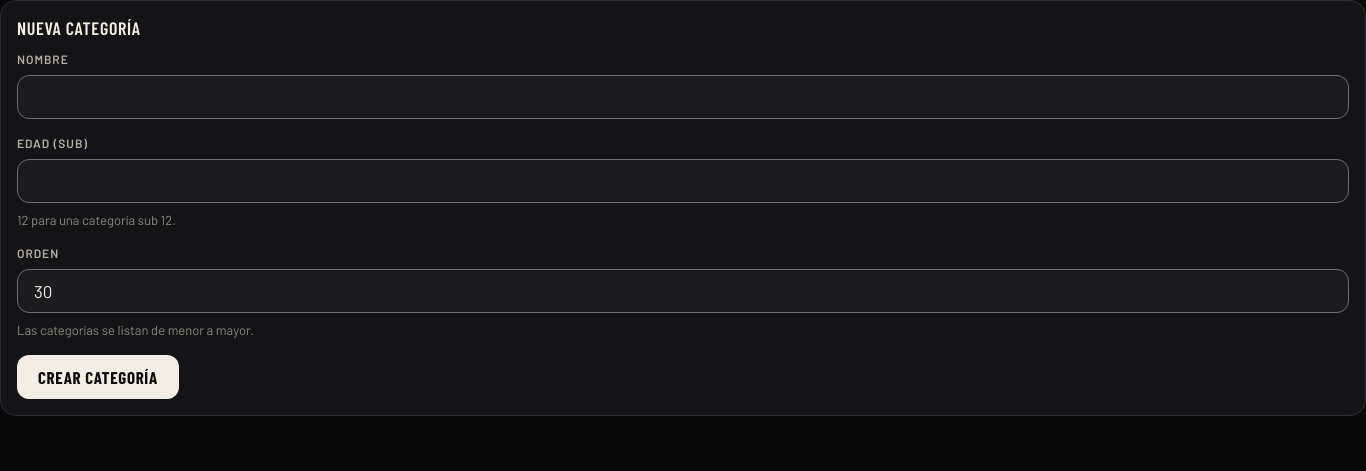
Test: CategoryEditor · una categoría nueva › el orden 0 escrito sí es 0
The width and height of the screenshot is (1366, 471).
Type "Mayores" into the field labelled "Nombre" at (683, 97), box [17, 75, 1349, 119]
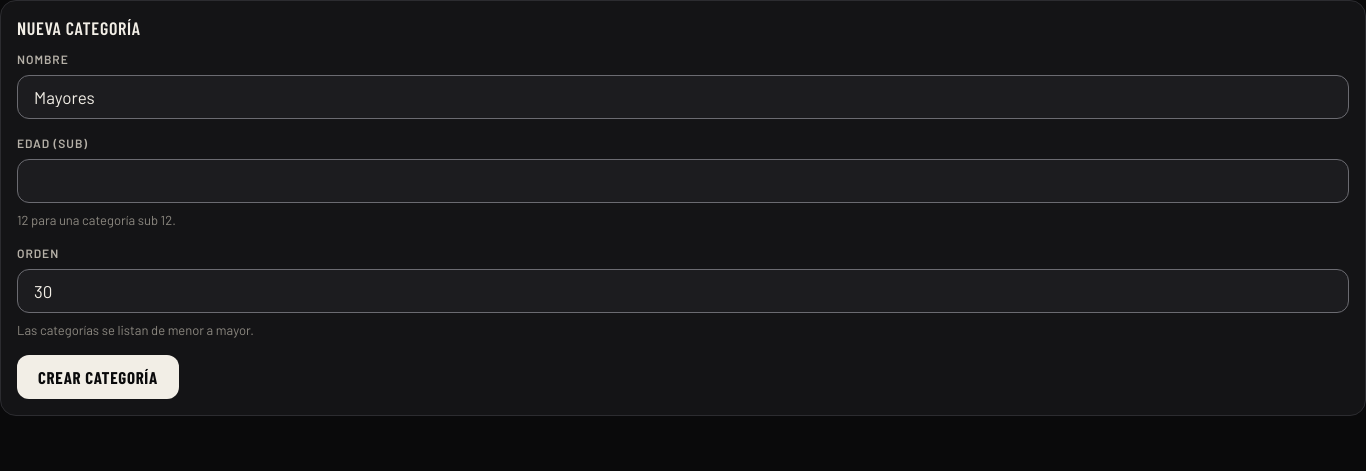
Type "16" into the number field labelled "Edad (sub)" at (683, 181), box [17, 159, 1349, 203]
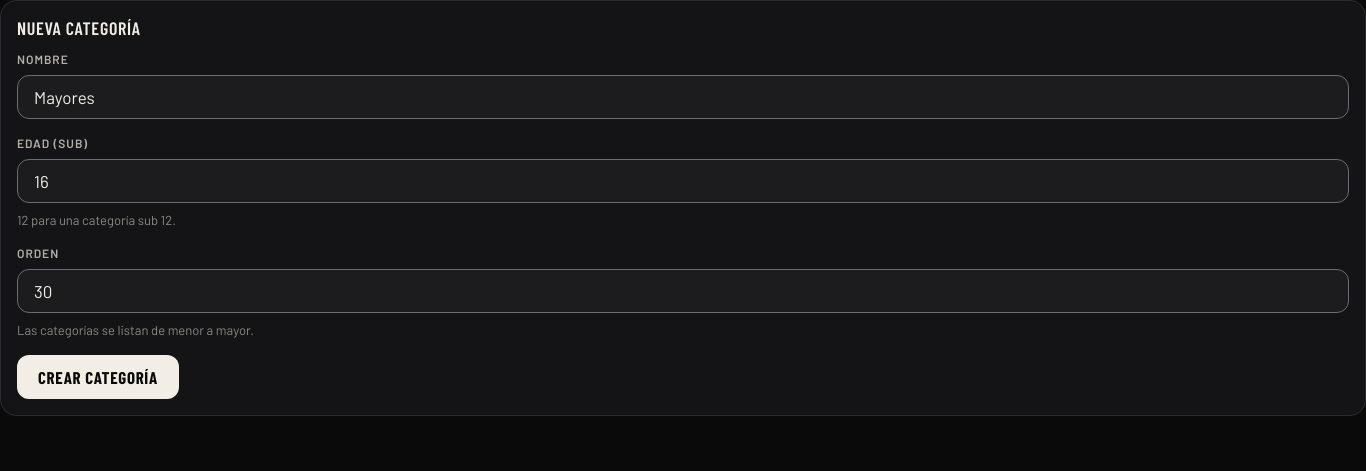
Replace the text in the number field labelled "Orden" with "0" at (683, 291), box [17, 269, 1349, 313]
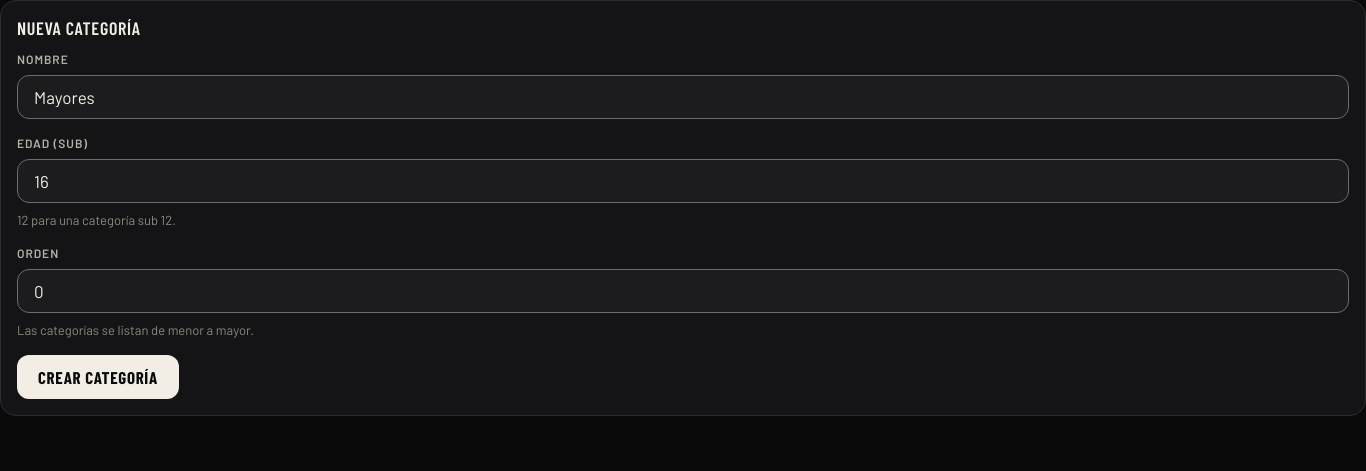
Click the button "Crear categoría" at (98, 377), box [17, 355, 179, 399]
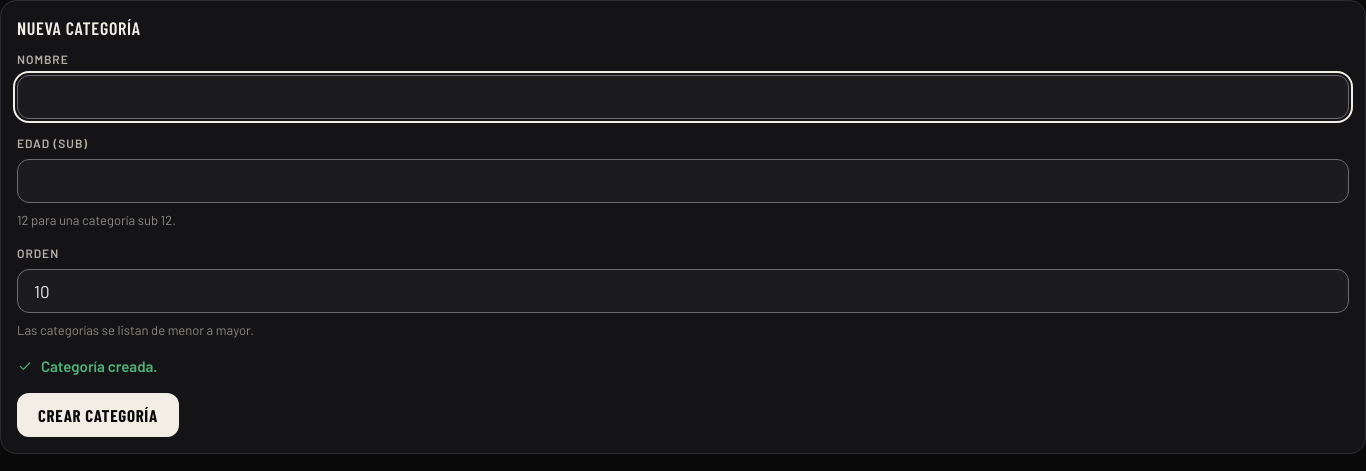
Check: the text "Categoría creada." is shown, box [17, 357, 158, 375]
